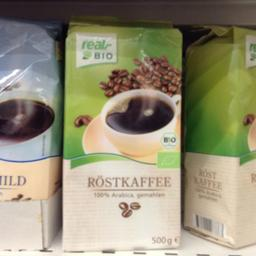coffee: (62, 13, 182, 248), (182, 26, 255, 247), (0, 16, 59, 195)
